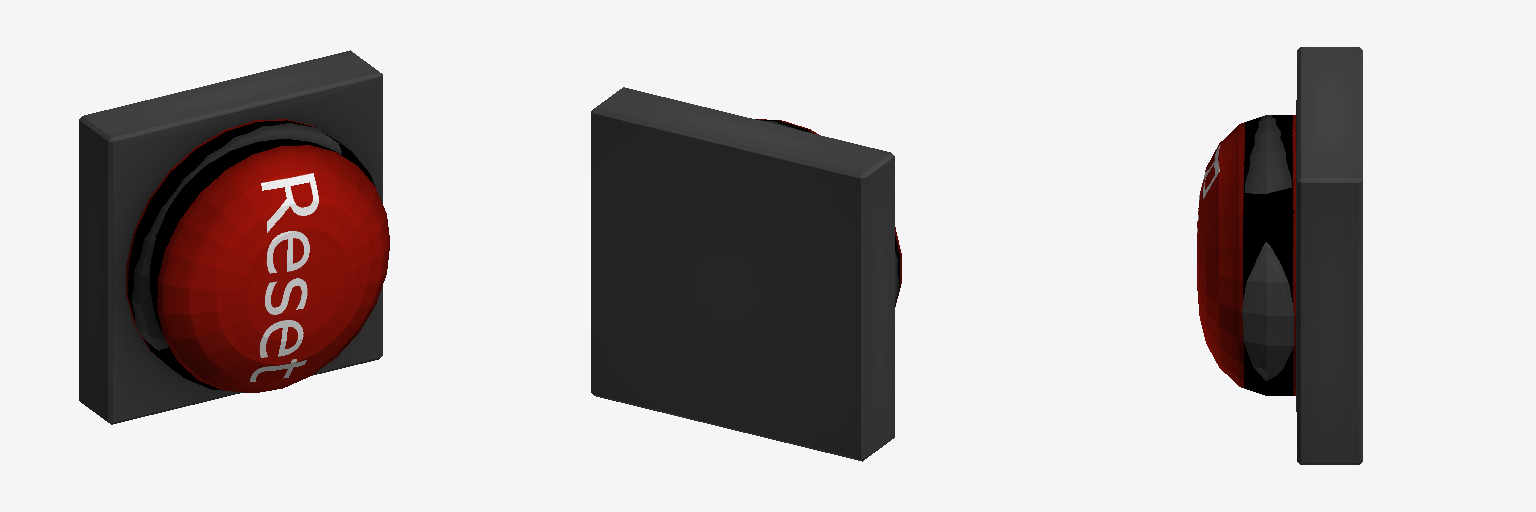
3 views of the same model, side by side, from view 1: azimuth 30°, elevation 25°; view 2: azimuth 150°, elevation 25°; view 3: azimuth 270°, elevation 25° (orthographic).
Parts seen in each view (by area): view 1: Sphere; view 2: Sphere; view 3: Sphere.
Part boxes in pixels (bbox=[...]): Sphere: bbox=[79, 50, 389, 424]; Sphere: bbox=[591, 87, 901, 461]; Sphere: bbox=[1197, 47, 1362, 464].
Size of the model in its own units: 200 by 200 by 105.
Materials: 1 (1 with a texture image).